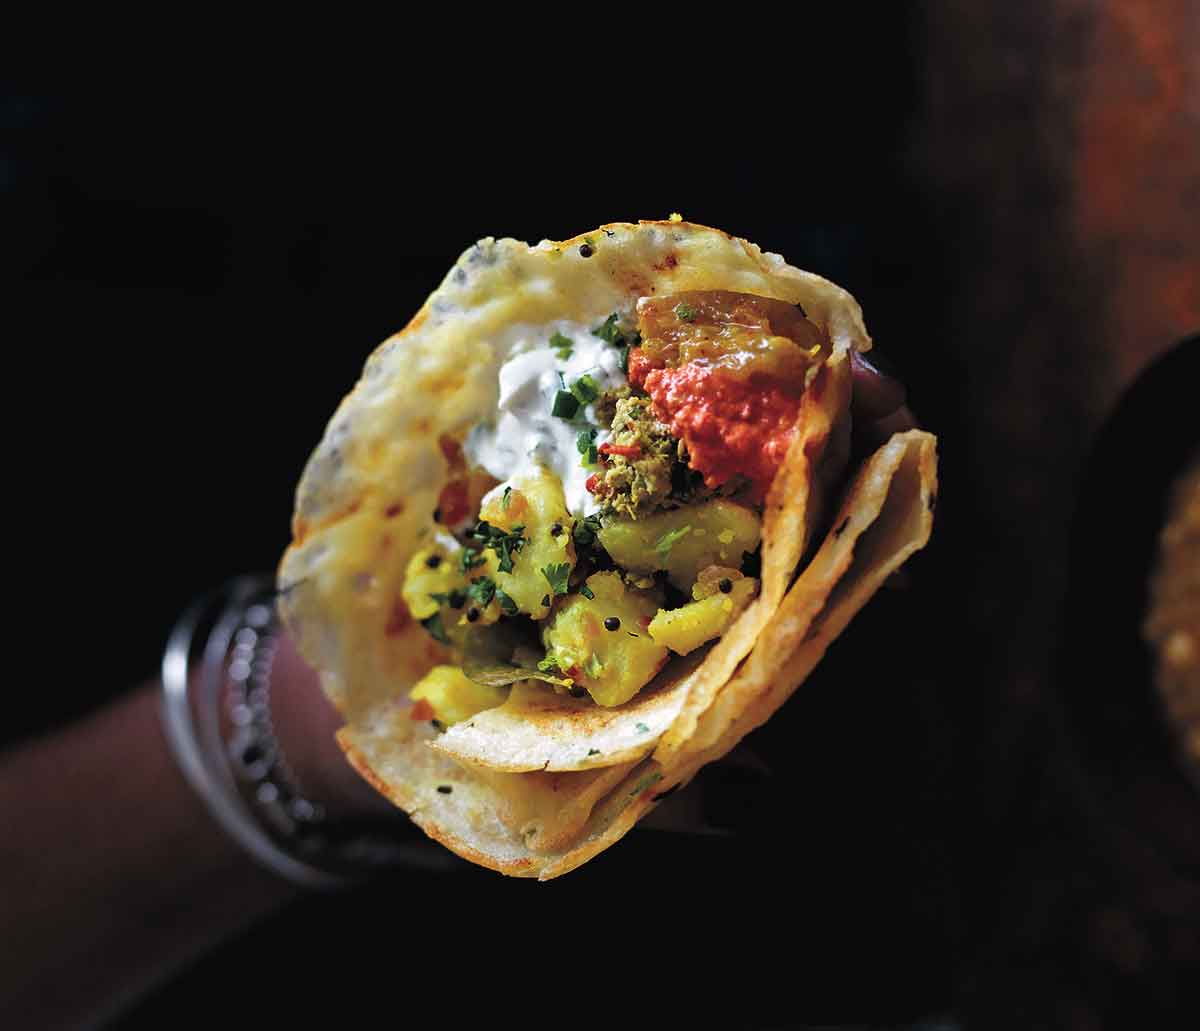dosa: (276, 200, 942, 887)
